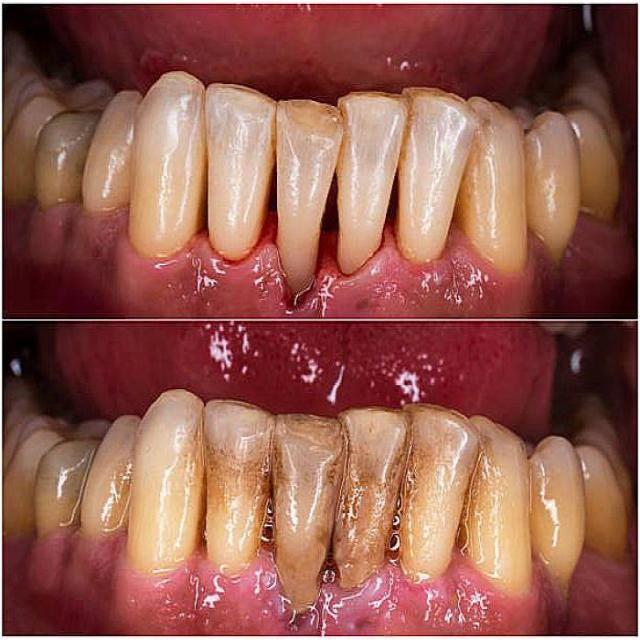CALCULUS: (154, 417, 496, 571), (48, 468, 139, 524)
